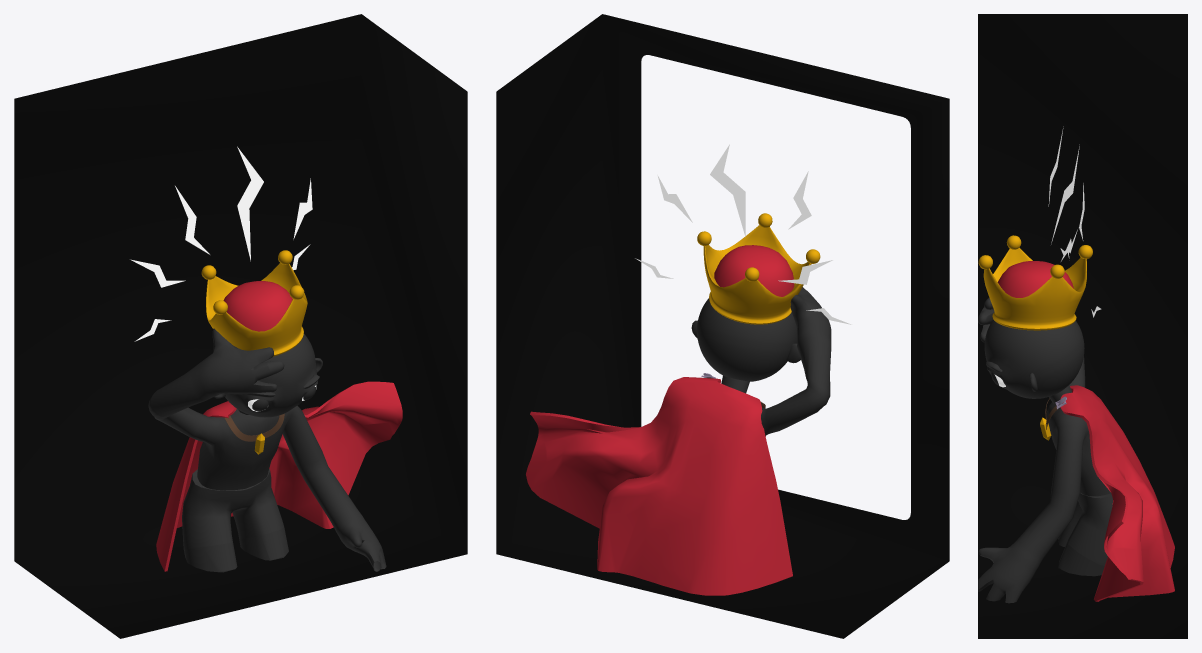
File: 6_King.glb
The picture shows the model from 3 angles, left to right: view 1: azimuth 30°, elevation 25°; view 2: azimuth 150°, elevation 25°; view 3: azimuth 270°, elevation 25°; orthographic projection.
Parts seen in each view (by area): view 1: 6_King_bg, 6_King; view 2: 6_King_bg, 6_King; view 3: 6_King_bg, 6_King.
Part boxes in pixels (x1,y1,x2,y2): 6_King_bg: [14, 14, 467, 638]; 6_King: [130, 146, 402, 572]; 6_King_bg: [496, 14, 949, 638]; 6_King: [526, 144, 851, 595]; 6_King_bg: [978, 14, 1187, 638]; 6_King: [978, 126, 1174, 603].
Size of the model in its own units: 2.76 by 3.51 by 1.46.
2 materials, 2 textured.
